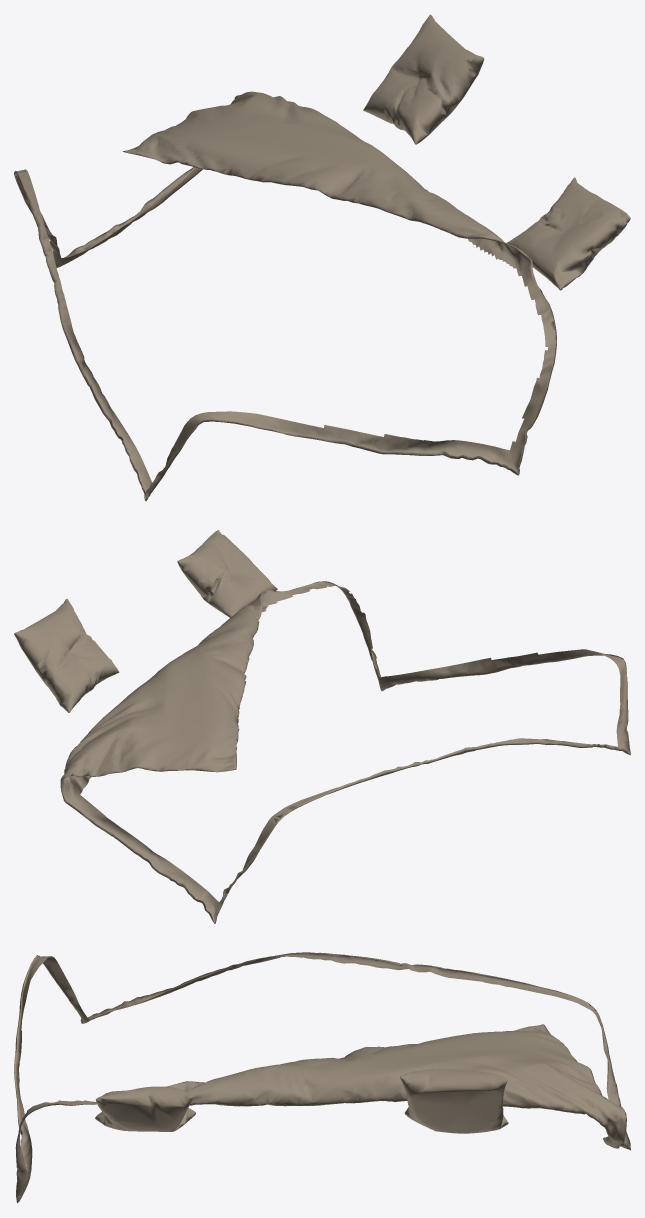
Rendered from Bed_Cream_0.obj.
3 views of the same model, one above another, from view 1: azimuth 30°, elevation 25°; view 2: azimuth 150°, elevation 25°; view 3: azimuth 270°, elevation 25° (orthographic). The views are drawn at different scales.
Parts seen in each view (by area): view 1: Bed_Cream_0; view 2: Bed_Cream_0; view 3: Bed_Cream_0.
Part boxes in pixels (<box>): Bed_Cream_0: <box>14,14,630,501</box>; Bed_Cream_0: <box>14,530,630,923</box>; Bed_Cream_0: <box>14,952,630,1203</box>.
Size of the model in its own units: 1.64 by 0.7008 by 1.85.
